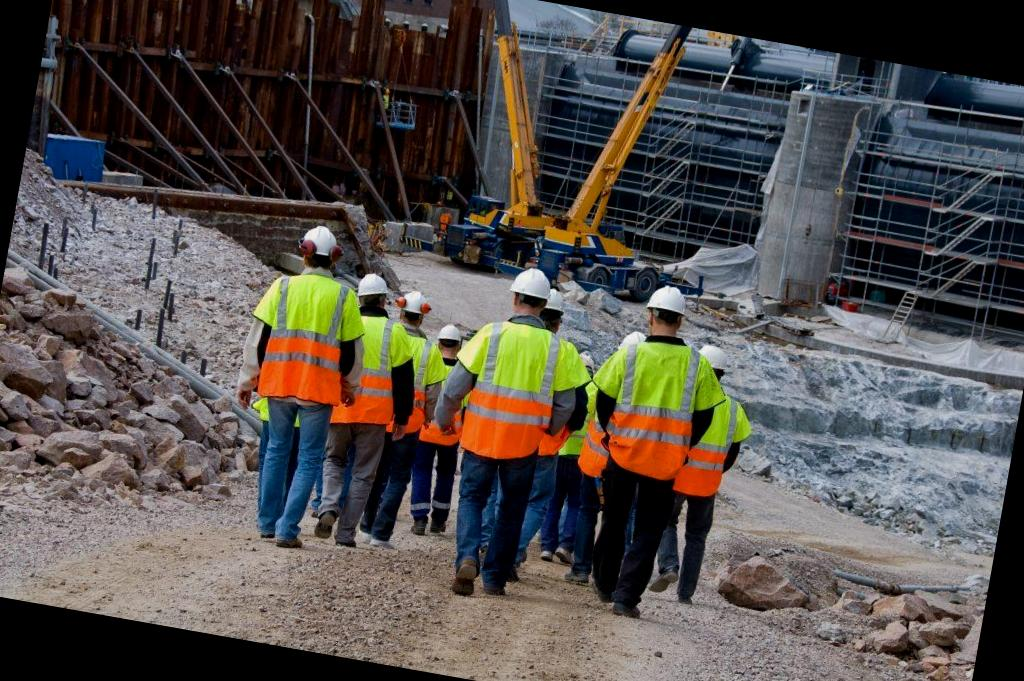helmet: (512, 261, 558, 303), (648, 278, 694, 316), (302, 222, 344, 258)
person: (566, 270, 730, 624), (422, 256, 586, 600), (217, 219, 369, 550)
